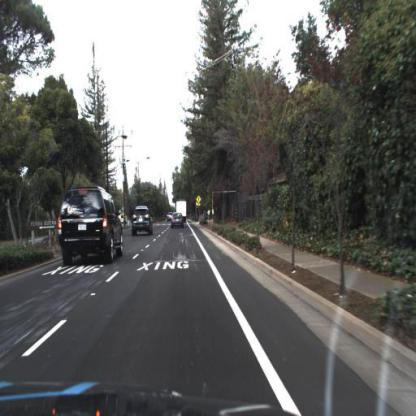car: (55, 186, 127, 268), (130, 203, 154, 239), (171, 211, 186, 231), (165, 210, 174, 223)
truck: (176, 199, 189, 225)
